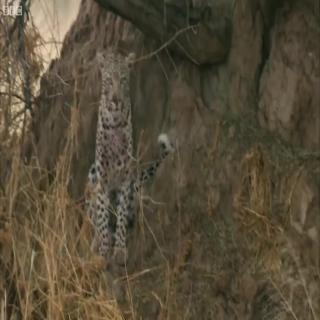Leopard: (82, 41, 167, 265)
